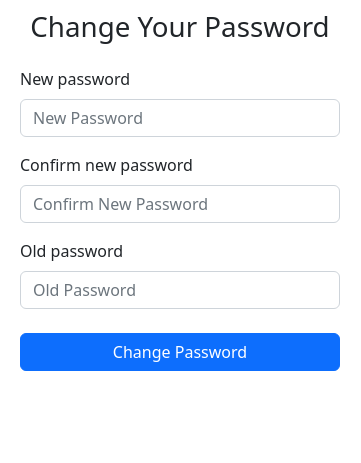
Testing EditPassword component › Testing when the password confirmation do not match the password it should shows 'Password confirmation should match the password'
Type "Q1!wasdf" into the password field with placeholder "New password". click: (180, 118)
box: [20, 99, 340, 137]
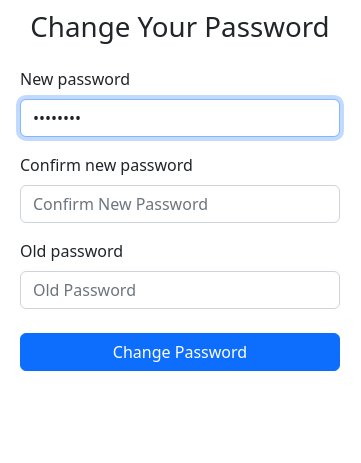
Type "blabla" into the password field with placeholder "Confirm new password". click: (180, 204)
box: [20, 185, 340, 223]
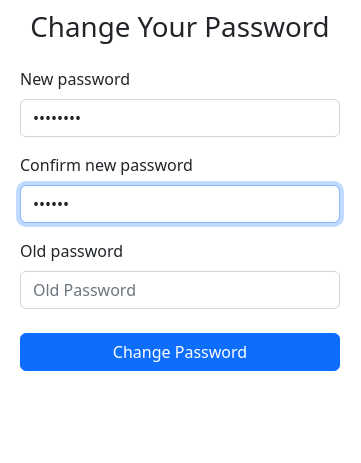
Click the button "Change Password". click: (180, 352)
box: [20, 333, 340, 371]
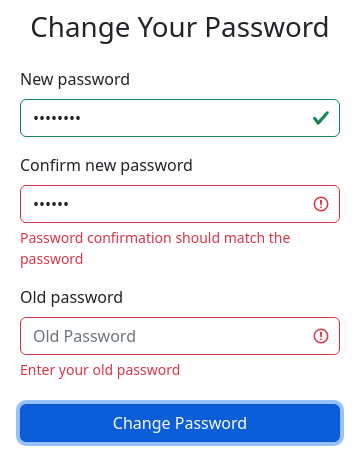
Result: the text "Password confirmation should match the password" is shown at [20, 228, 290, 268]
